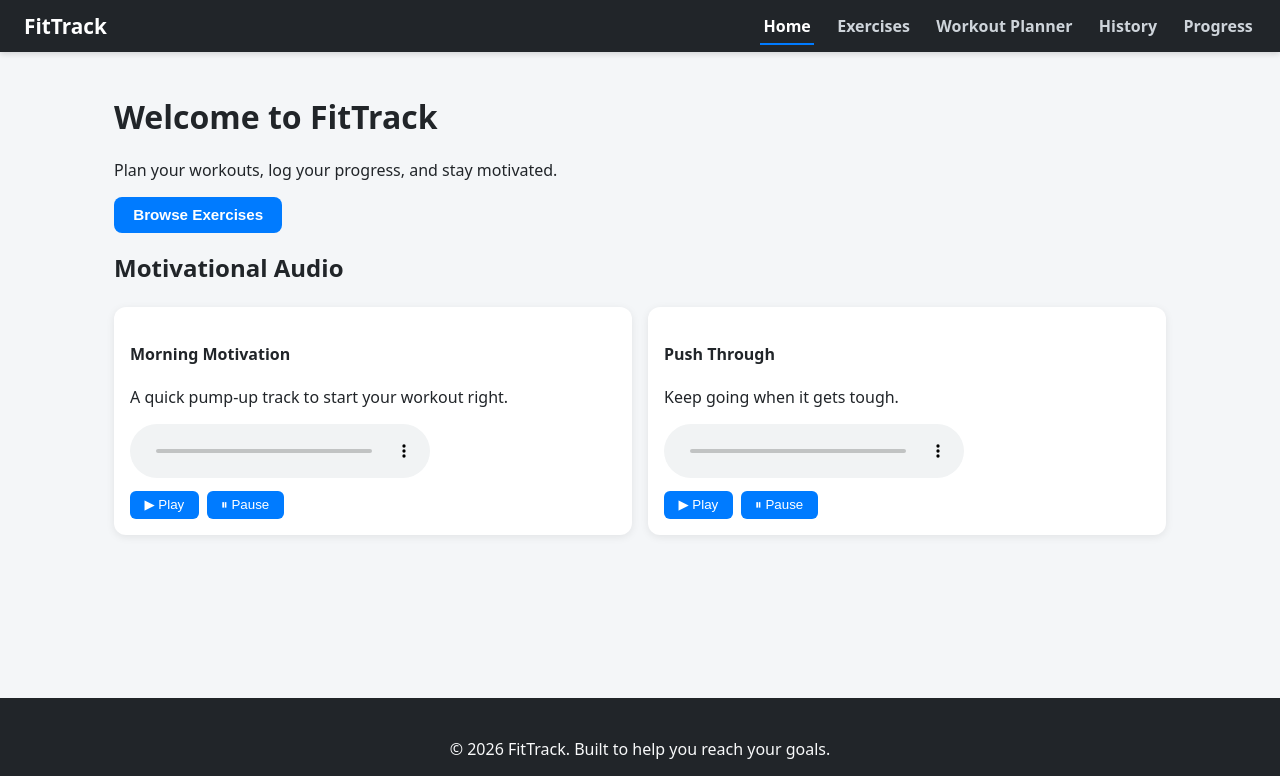
it: Navigation Integration › navigates to the exercises page when the nav link is clicked
This screenshot has width=1280, height=776.
Click the link "Exercises" at (874,26), box [837,15,910,37]
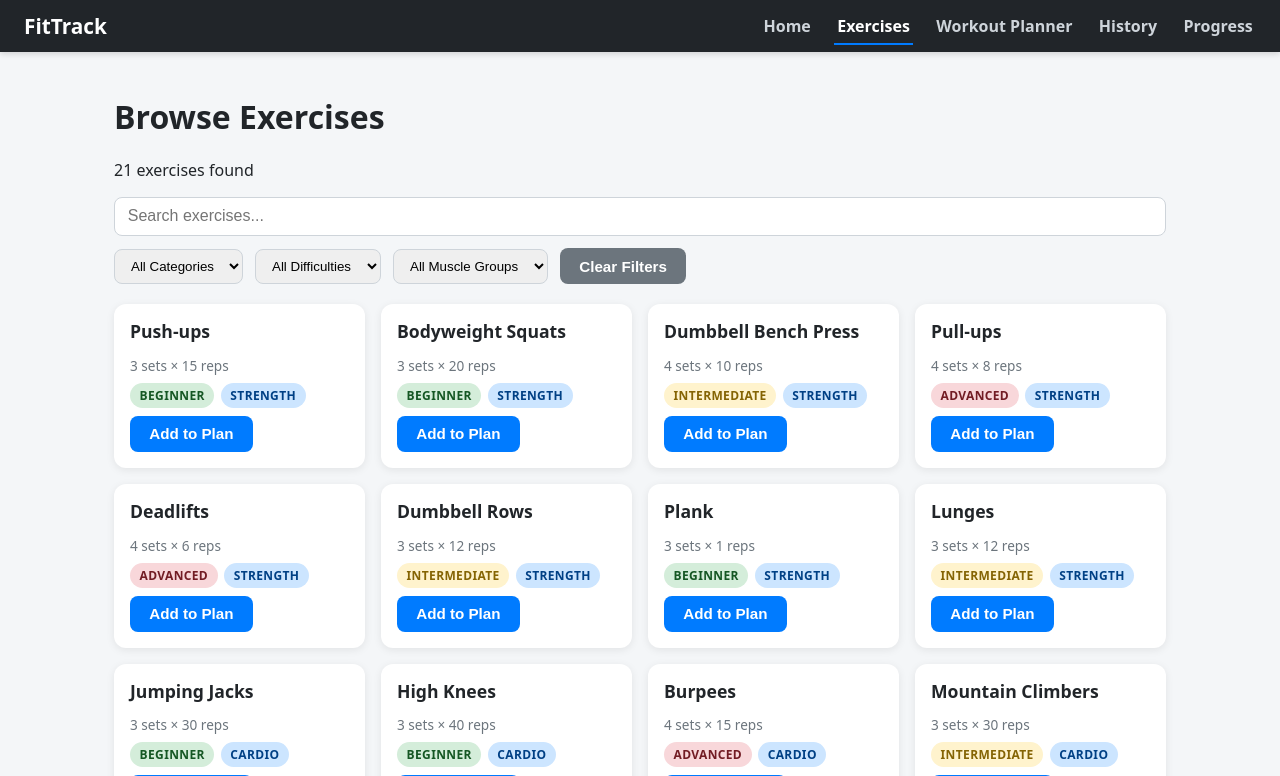
Check: the heading "Browse Exercises" is shown, box [114,95,385,138]
